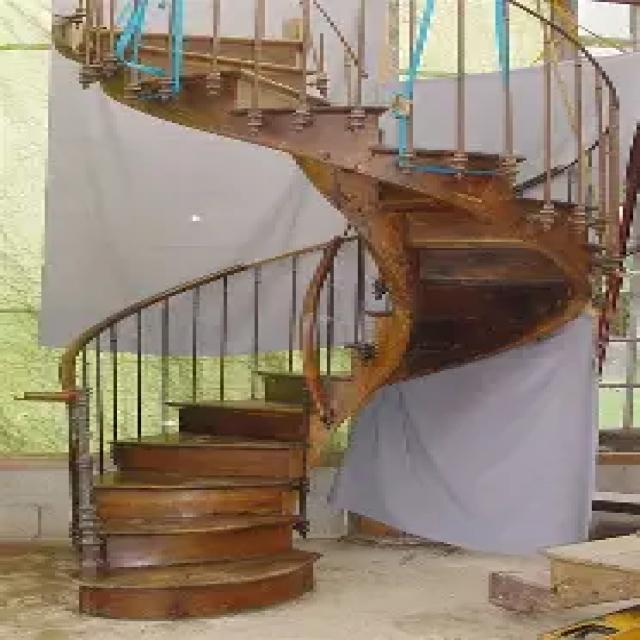Stairs: (38, 235, 607, 627)
